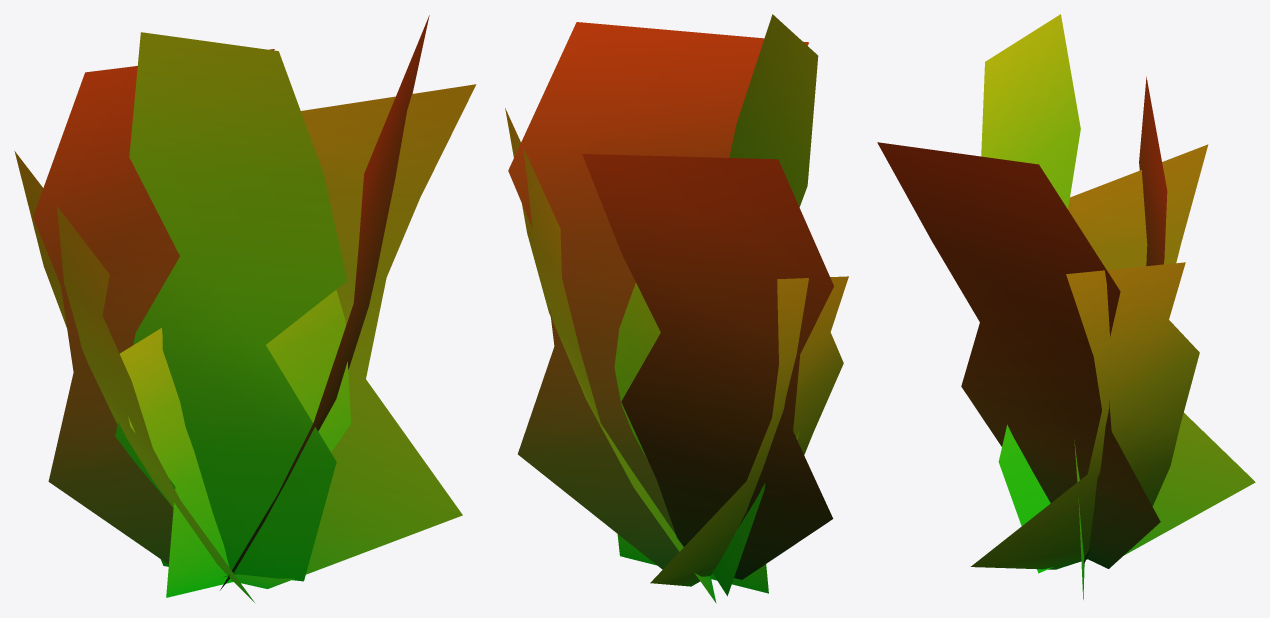
The model's file is Var8Hi29.fbx.
The picture shows the model from 3 angles, left to right: view 1: azimuth 30°, elevation 25°; view 2: azimuth 150°, elevation 25°; view 3: azimuth 270°, elevation 25°; orthographic projection. The views are drawn at different scales.
Parts seen in each view (by area): view 1: bend1; view 2: bend1; view 3: bend1.
Part boxes in pixels (x1,y1,x2,y2): bend1: (14,15,476,602); bend1: (505,14,848,603); bend1: (877,14,1255,599).
Size of the model in its own units: 1.26 by 1.76 by 1.2.
